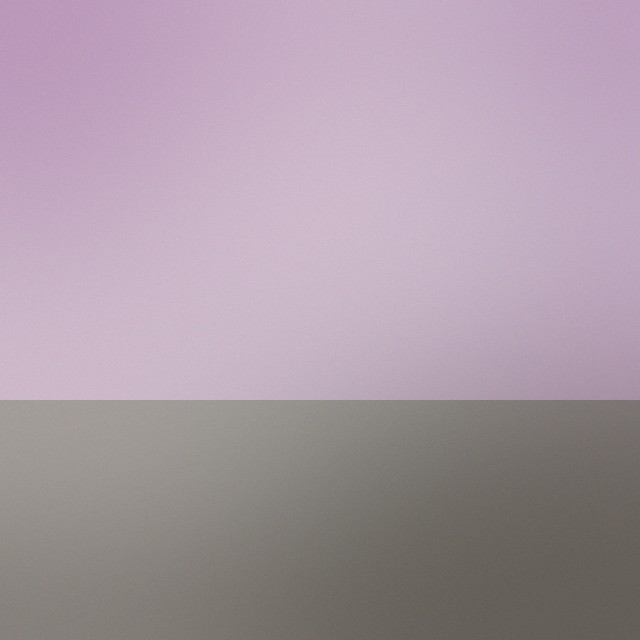smoke: (43, 107, 435, 499)
